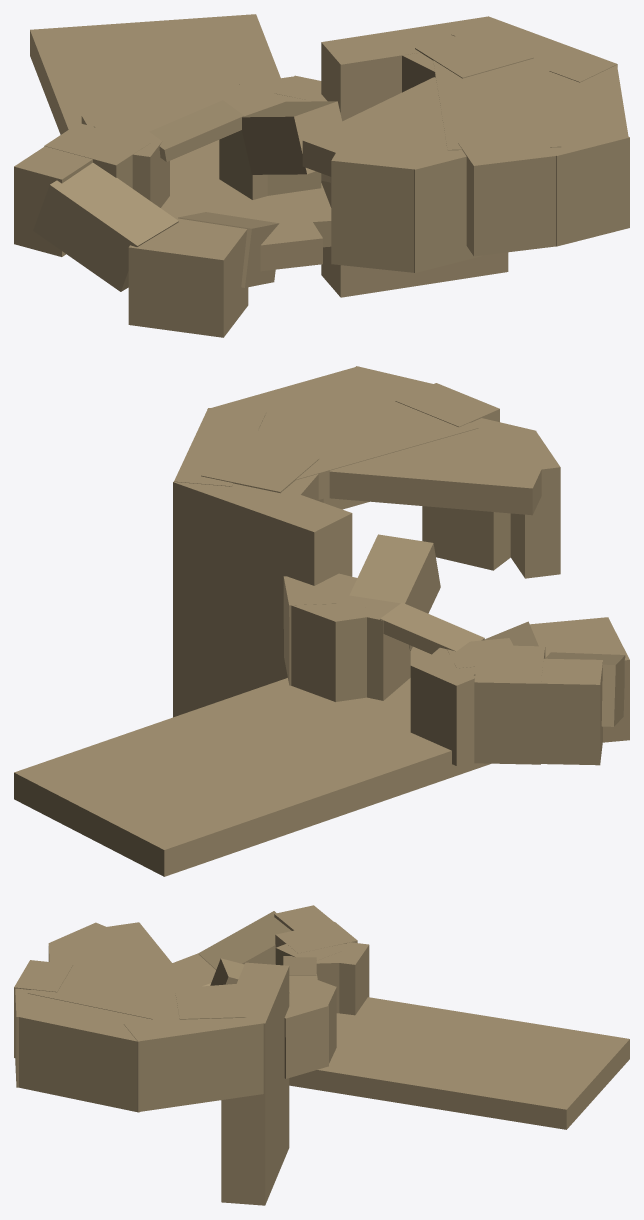
File: p_FarElevation.fbx
3 renders of one model, top to bottom at view 1: azimuth 30°, elevation 25°; view 2: azimuth 150°, elevation 25°; view 3: azimuth 270°, elevation 25°, orthographic. The views are drawn at different scales.
Visible parts, largest first — view 1: Floor_03__226_, Floor_03__434_, Floor_03__305_, Floor_03__267_, Floor_03__264_, Floor_03__285_, Floor_03__398_, Floor_03__266_, Floor_03__265_, Floor_03__400_, Floor_03__282_, Floor_03__286_ (+15 smaller); view 2: Floor_03__226_, Floor_03__305_, Floor_03__400_, Floor_03__398_, Floor_03__430_, Floor_03__265_, Floor_03__435_, Floor_03__264_, Floor_03__309_, Floor_03__282_, Floor_03__306_, Floor_03__286_ (+11 smaller); view 3: Floor_03__226_, Floor_03__287_, Floor_03__305_, Floor_03__286_, Floor_03__398_, Floor_03__400_, Floor_03__308_, Floor_03__285_, Floor_03__309_, Floor_03__417_, Floor_03__430_, Floor_03__267_ (+10 smaller).
Boxes of the visible parts, x1,y1,x2,y2 form: Floor_03__226_: [30, 14, 331, 247]; Floor_03__434_: [128, 218, 248, 337]; Floor_03__305_: [321, 16, 508, 297]; Floor_03__267_: [458, 133, 555, 256]; Floor_03__264_: [331, 146, 422, 272]; Floor_03__285_: [33, 163, 178, 291]; Floor_03__398_: [433, 50, 561, 150]; Floor_03__266_: [551, 117, 629, 246]; Floor_03__265_: [372, 122, 482, 272]; Floor_03__400_: [302, 77, 443, 176]; Floor_03__282_: [242, 101, 342, 174]; Floor_03__286_: [549, 65, 628, 137]; Floor_03__226_: [14, 646, 490, 876]; Floor_03__305_: [173, 481, 352, 717]; Floor_03__400_: [329, 442, 546, 515]; Floor_03__398_: [252, 386, 478, 499]; Floor_03__430_: [474, 645, 545, 764]; Floor_03__265_: [422, 418, 535, 570]; Floor_03__435_: [541, 658, 602, 765]; Floor_03__264_: [501, 431, 560, 578]; Floor_03__309_: [410, 659, 475, 765]; Floor_03__282_: [349, 534, 440, 651]; Floor_03__306_: [291, 578, 379, 701]; Floor_03__286_: [210, 367, 391, 509]; Floor_03__226_: [289, 997, 629, 1129]; Floor_03__287_: [124, 1005, 264, 1111]; Floor_03__305_: [221, 962, 289, 1205]; Floor_03__286_: [19, 1000, 152, 1112]; Floor_03__398_: [27, 959, 212, 1026]; Floor_03__400_: [76, 922, 189, 984]; Floor_03__308_: [284, 993, 328, 1078]; Floor_03__285_: [198, 911, 291, 969]; Floor_03__309_: [334, 942, 369, 1015]; Floor_03__417_: [175, 989, 246, 1019]; Floor_03__430_: [275, 922, 357, 953]; Floor_03__267_: [14, 960, 72, 1057].
Size of the model in its own units: 1988 by 906 by 2765.
